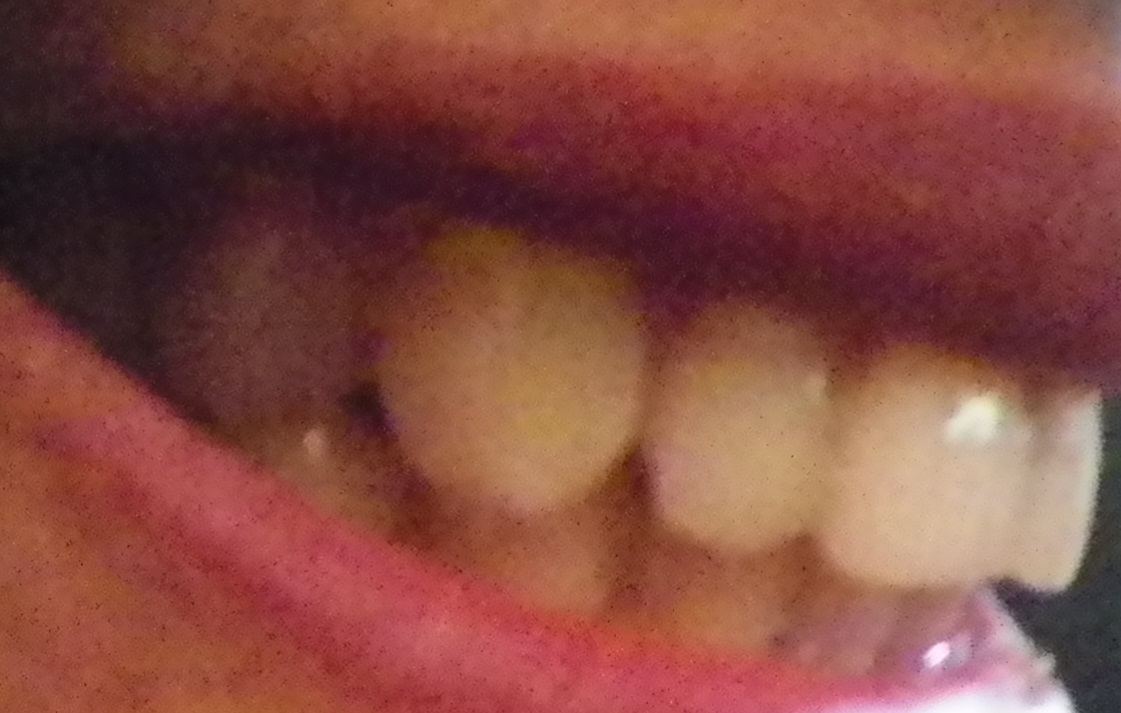boca: (84, 170, 1097, 667)
